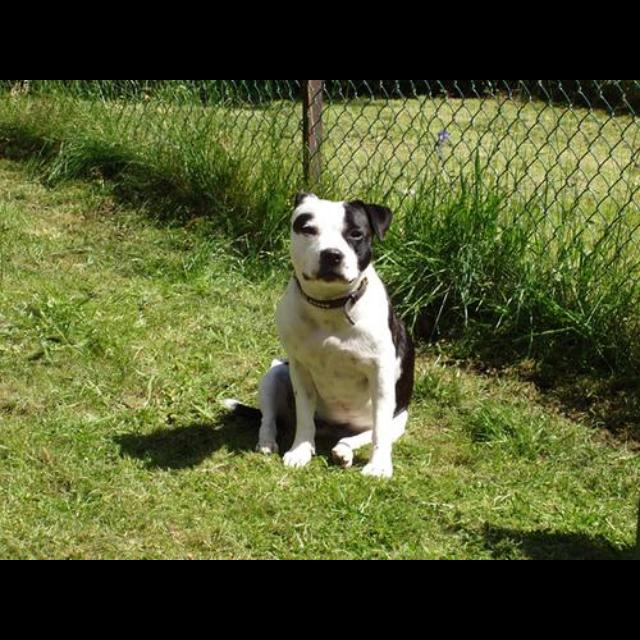amstaff: (223, 190, 416, 480)
